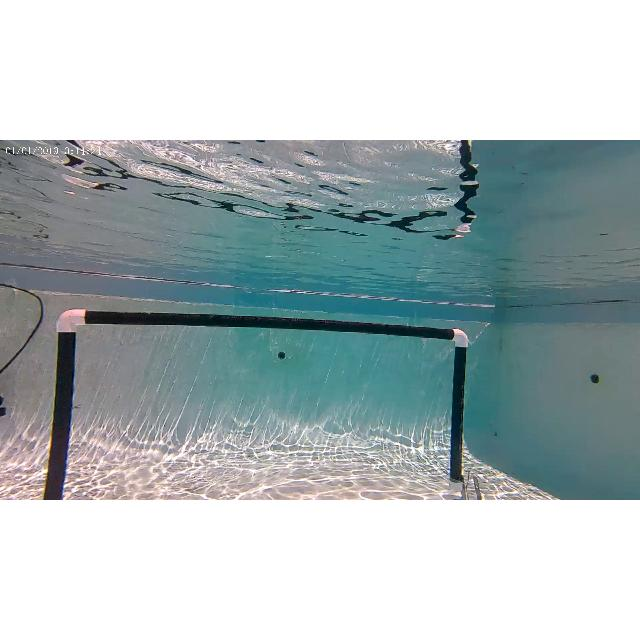prequal gate: (44, 308, 468, 500)
prequal gate leg l: (48, 308, 86, 500)
prequal gate leg r: (444, 324, 480, 498)
